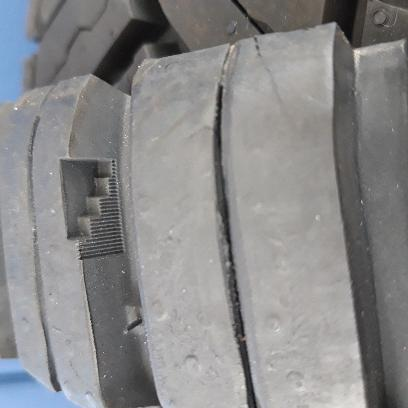temoin:100: (57, 156, 128, 262)
